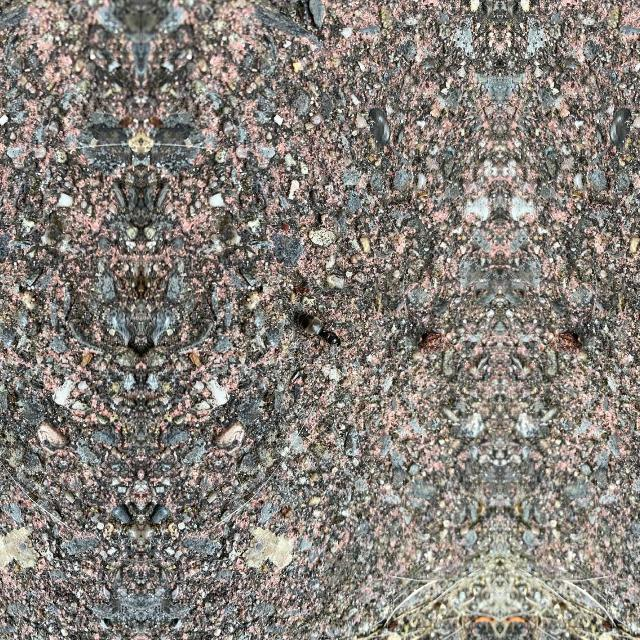Lasius: (291, 311, 347, 349)
